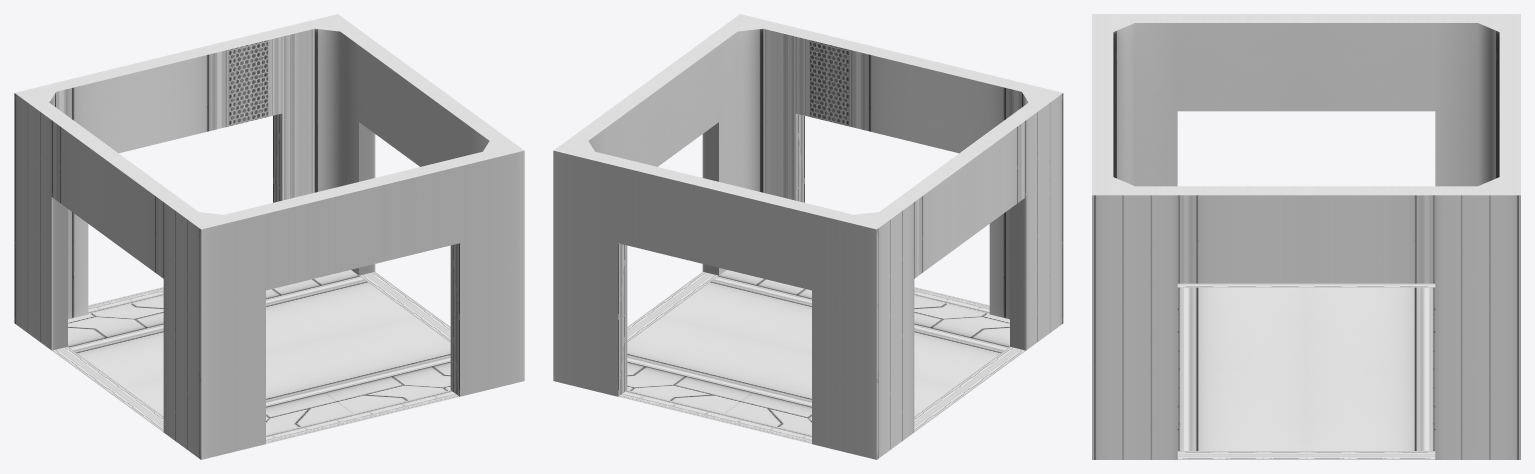
Rendered from Raum_4_Eingange.fbx.
3 renders of one model, left to right at view 1: azimuth 30°, elevation 25°; view 2: azimuth 150°, elevation 25°; view 3: azimuth 270°, elevation 25°, orthographic. The views are drawn at different scales.
Visible parts, largest first — view 1: pPlane2; view 2: pPlane2; view 3: pPlane2.
Boxes of the visible parts, <box> form: pPlane2: <box>14,14,524,459</box>; pPlane2: <box>553,14,1063,459</box>; pPlane2: <box>1092,14,1520,459</box>.
Bounding box in the file's own units: 10 × 6.81 × 10.
1 material, 1 textured.
